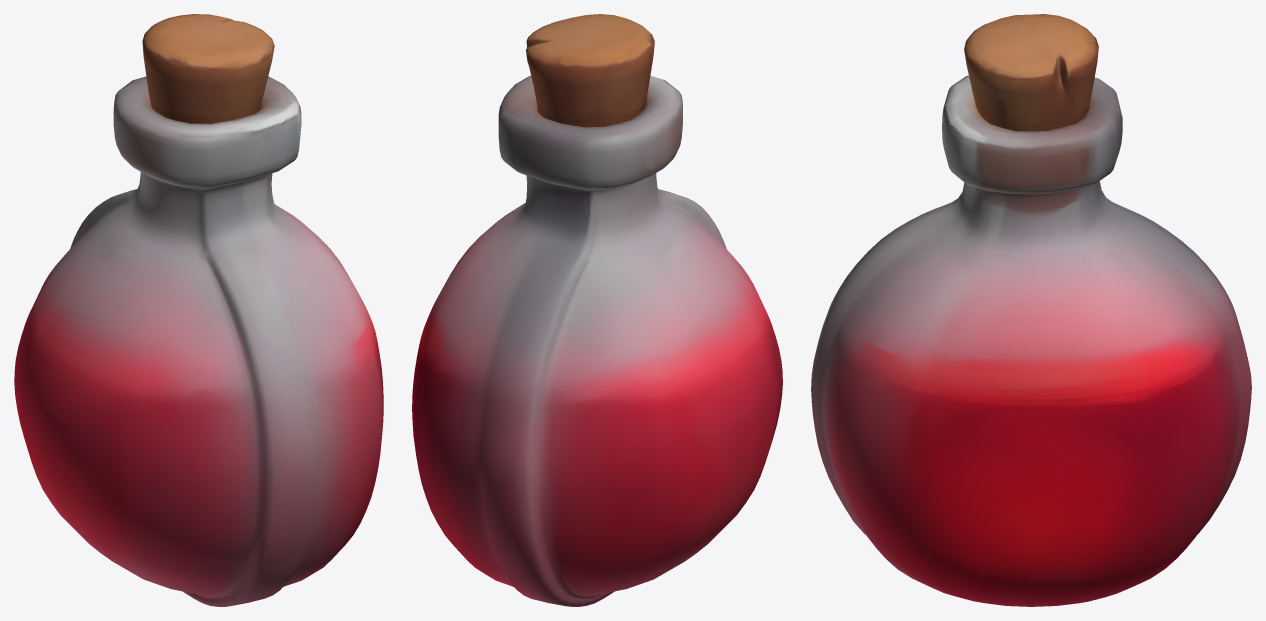
File: 11-potion.glb
3 views of the same model, side by side, from view 1: azimuth 30°, elevation 25°; view 2: azimuth 150°, elevation 25°; view 3: azimuth 270°, elevation 25° (orthographic). The views are drawn at different scales.
Visible parts, largest first — view 1: tripo_node_3f6e7da7-e61e-43b1-aa67-0f328e6cfa08; view 2: tripo_node_3f6e7da7-e61e-43b1-aa67-0f328e6cfa08; view 3: tripo_node_3f6e7da7-e61e-43b1-aa67-0f328e6cfa08.
Part boxes in pixels (x1,y1,x2,y2): tripo_node_3f6e7da7-e61e-43b1-aa67-0f328e6cfa08: (14,14,383,606); tripo_node_3f6e7da7-e61e-43b1-aa67-0f328e6cfa08: (412,14,782,606); tripo_node_3f6e7da7-e61e-43b1-aa67-0f328e6cfa08: (811,14,1251,606).
Bounding box in the file's own units: 0.5591 × 0.9995 × 0.7202.
1 material, 1 textured.
